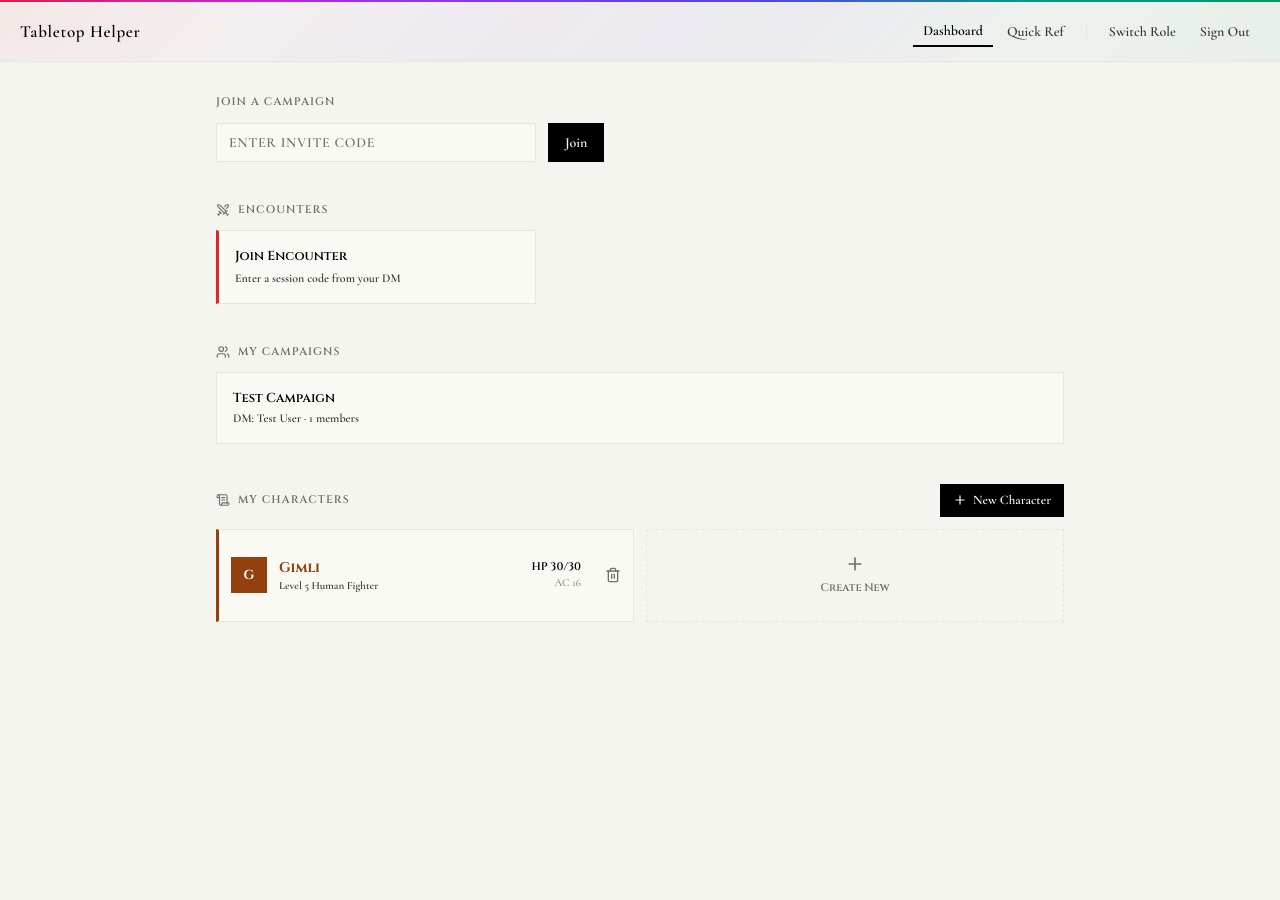
Test: Player Dashboard Flow › opens delete confirmation and requires exact name
The width and height of the screenshot is (1280, 900).
expect the heading "Gimli" is shown: met, box [279,558,320,576]
Click the button titled "Delete character" at (613, 575), box [593,530,633,620]
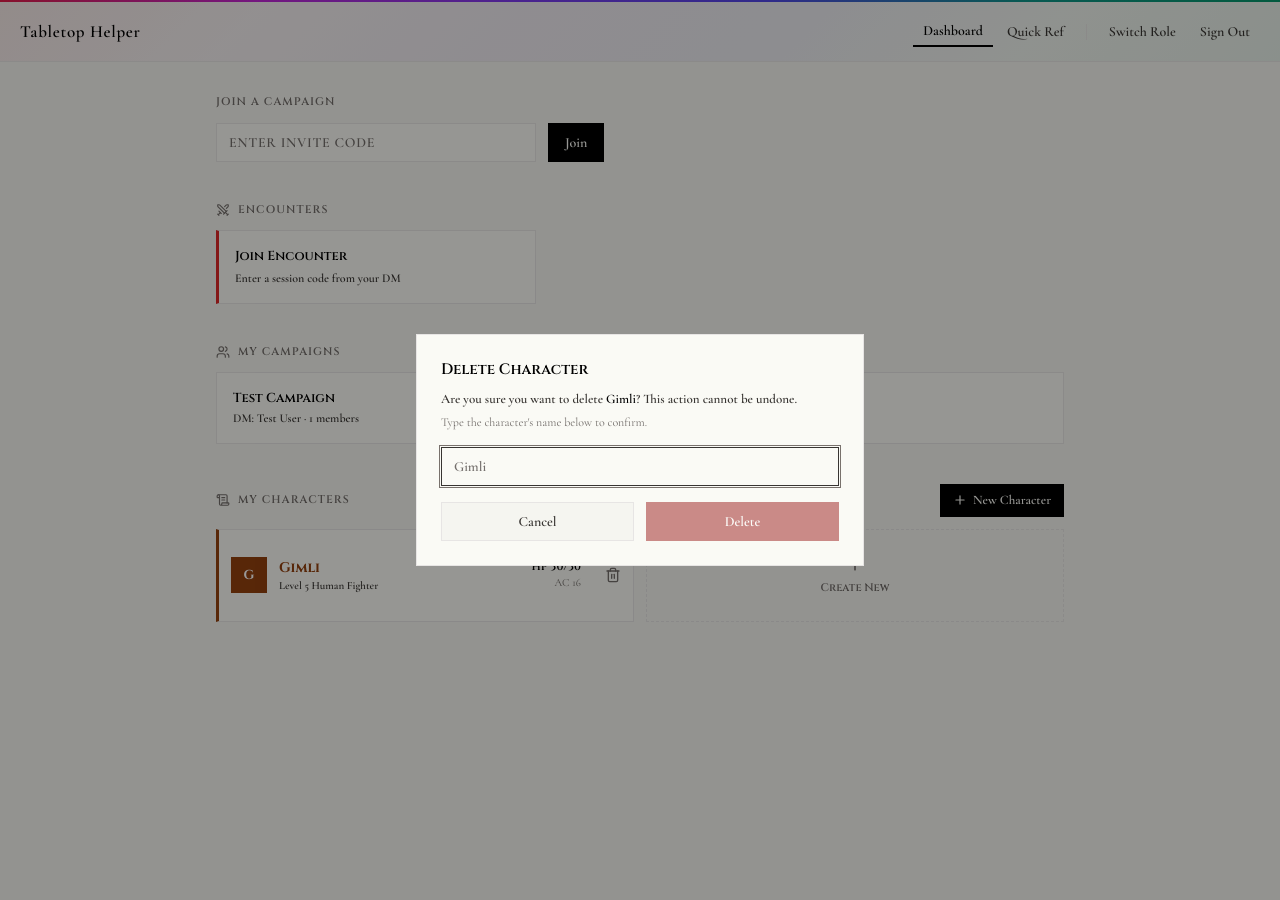
expect the dialog is shown: met, box [416,334,864,566]
expect the button "Delete" is disabled: met, box [646,502,839,541]
Type "WrongName" into the field with placeholder "Gimli" at (640, 466), box [441,447,839,486]
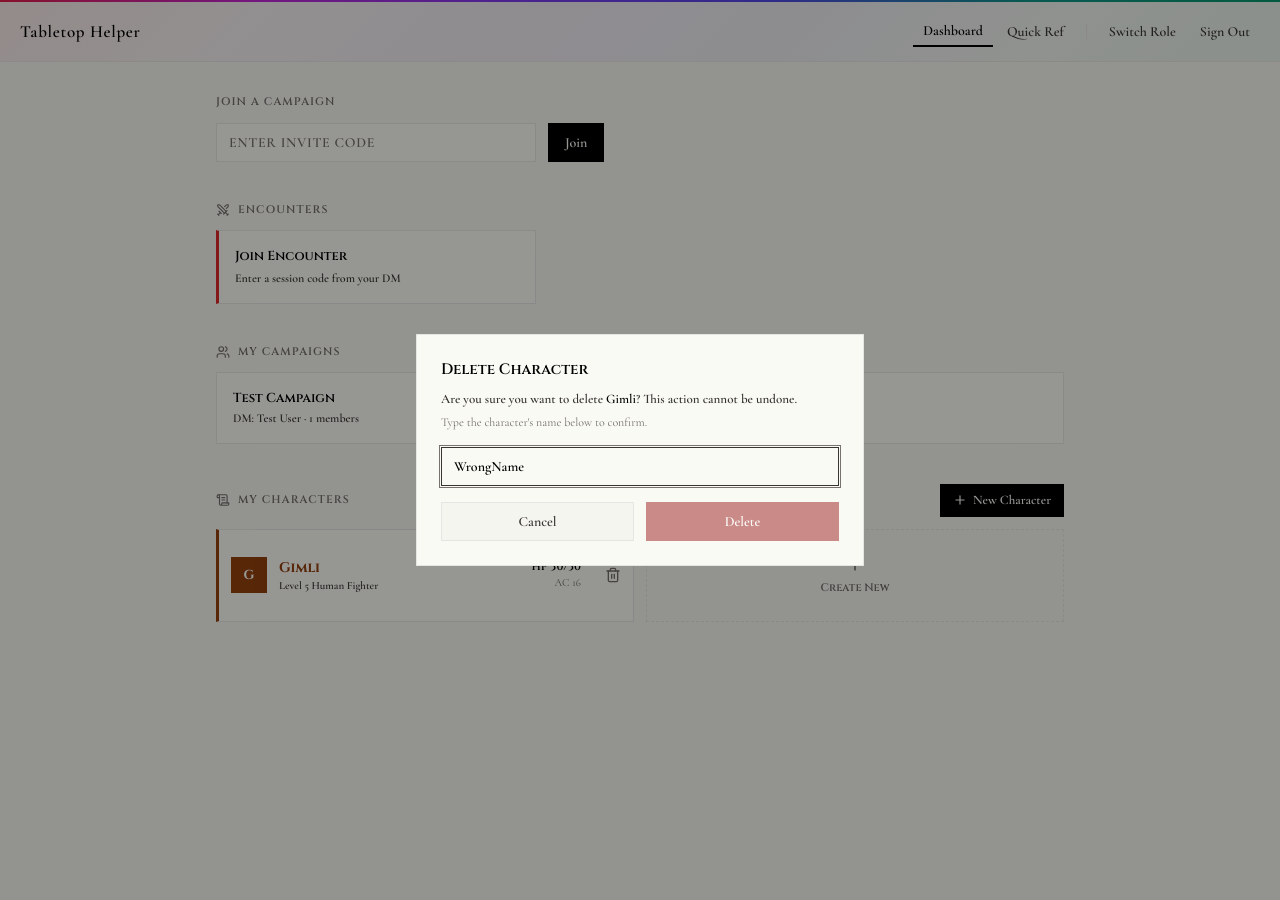
expect the button "Delete" is disabled: met, box [646,502,839,541]
Replace the text in the field with placeholder "Gimli" with "Gimli" at (640, 466), box [441,447,839,486]
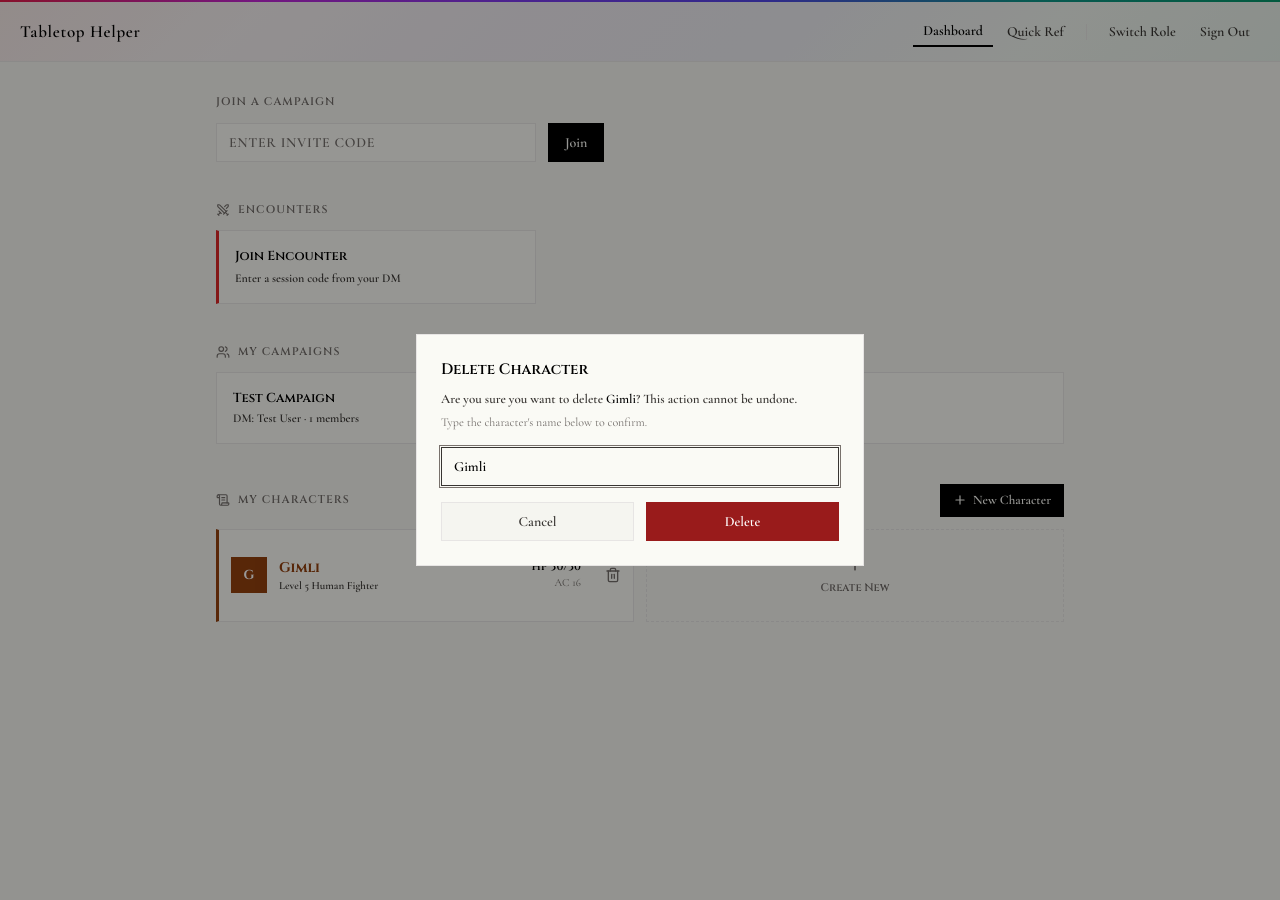
expect the button "Delete" is enabled: met, box [646,502,839,541]
